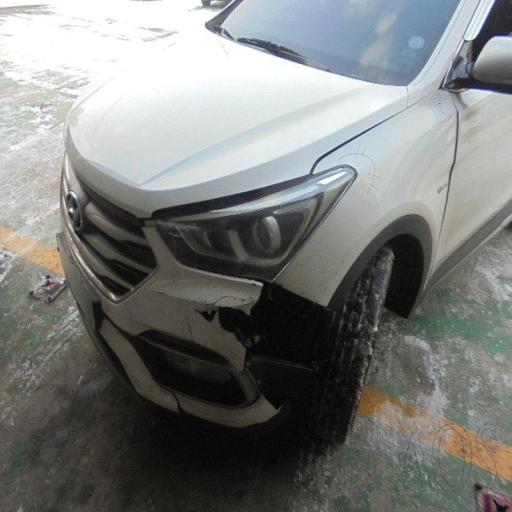broken: (182, 228, 334, 439), (77, 214, 163, 418)
scratch: (335, 129, 393, 212)
